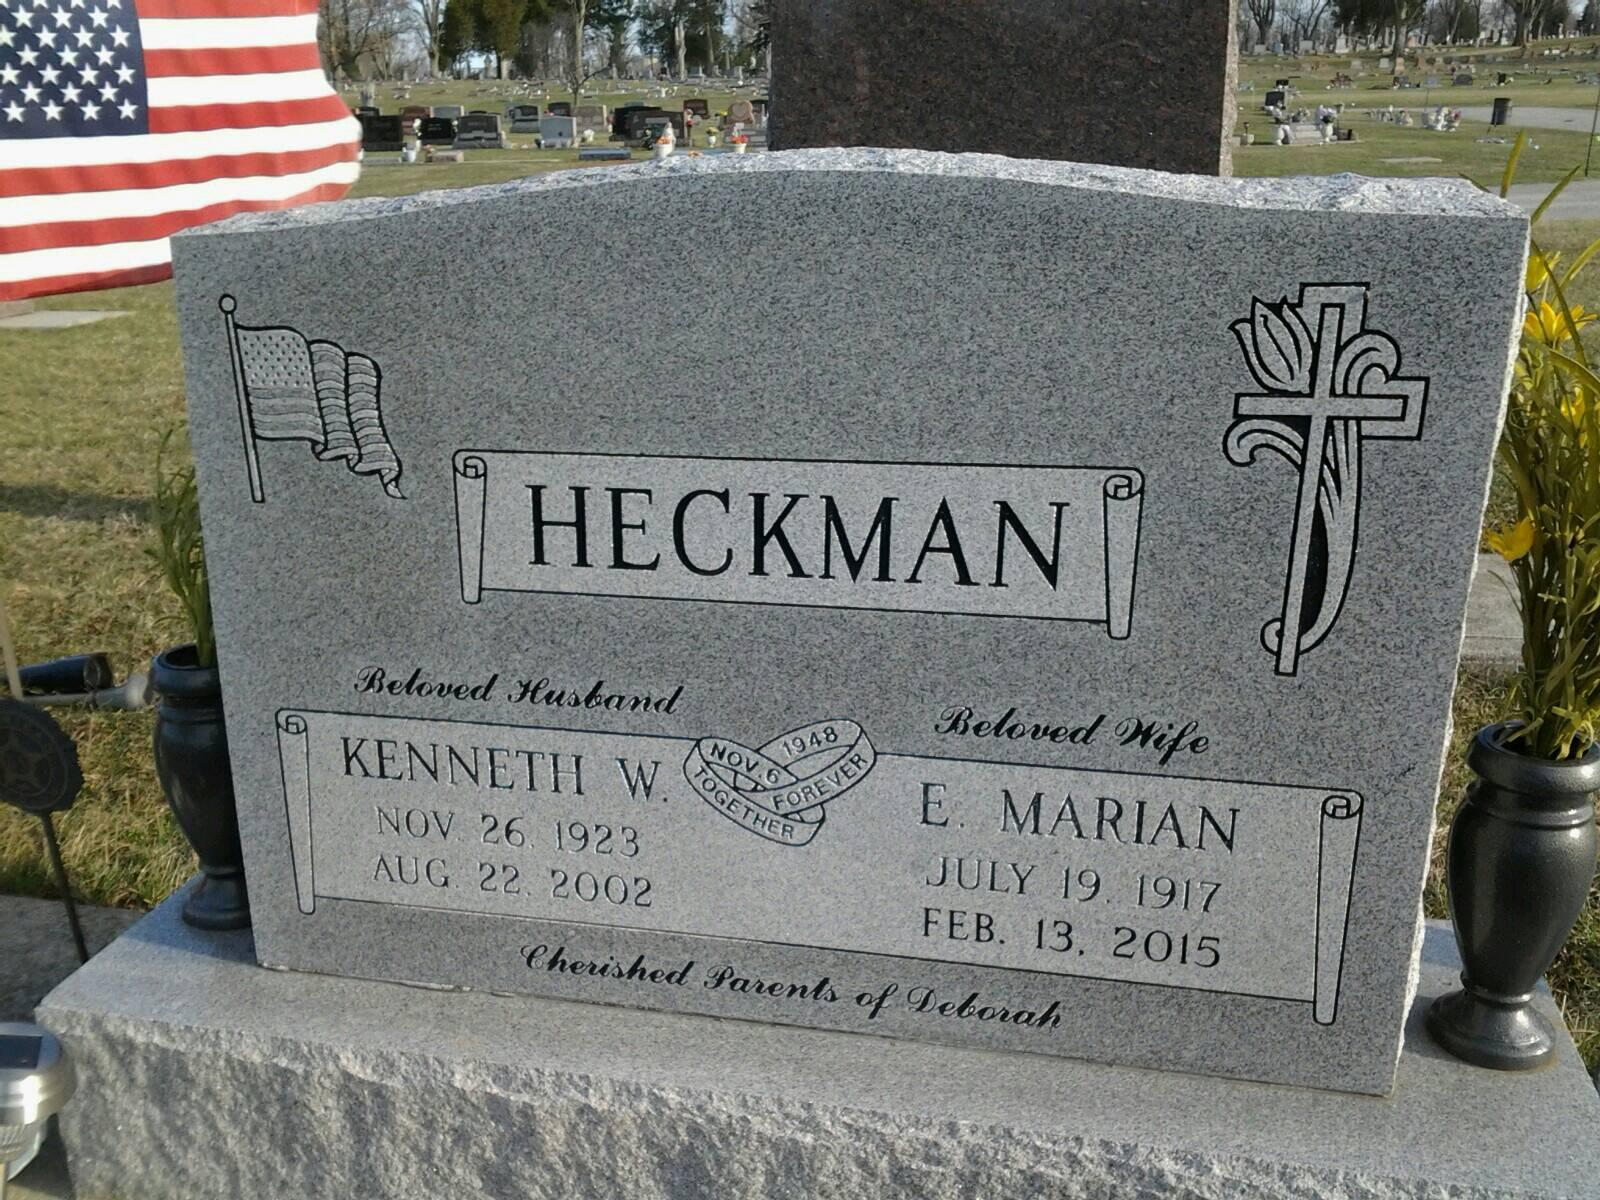upright: (16, 140, 1541, 1199)
